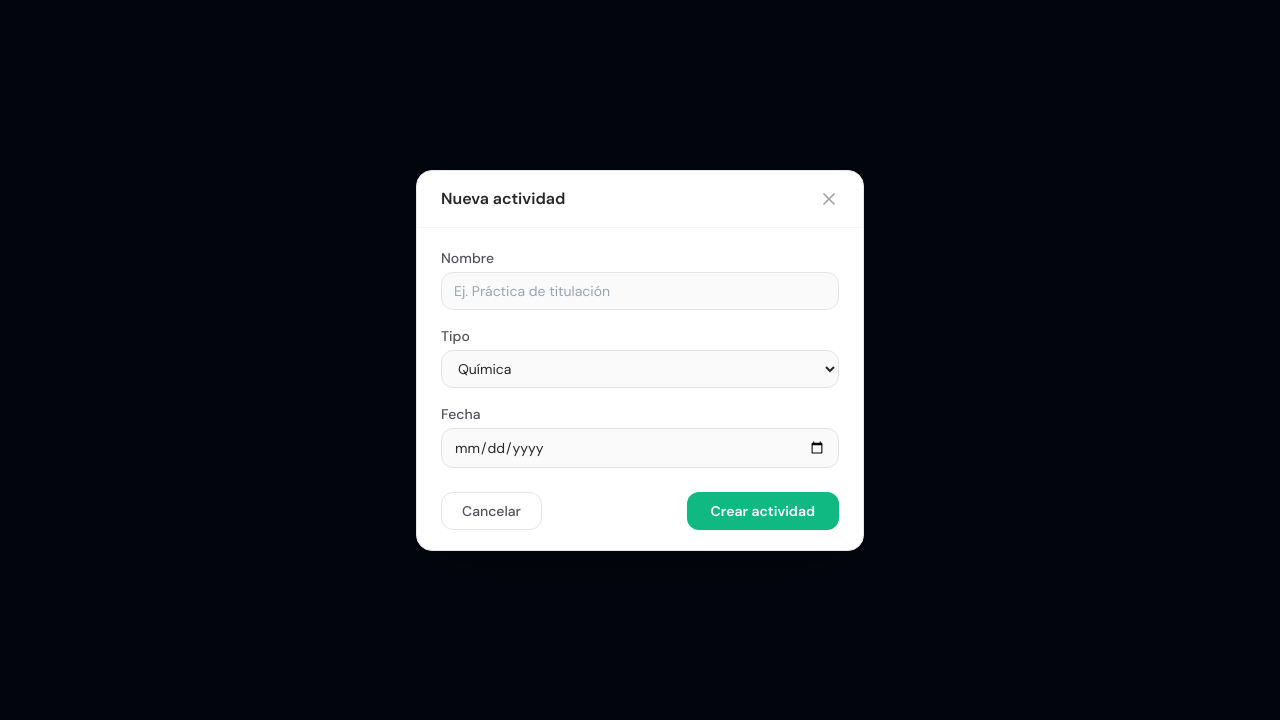
Test case: FormularioActividad Component › exige nombre y fecha
The width and height of the screenshot is (1280, 720).
Click the button "Crear actividad". click: x=763, y=510
box: [687,492,839,530]
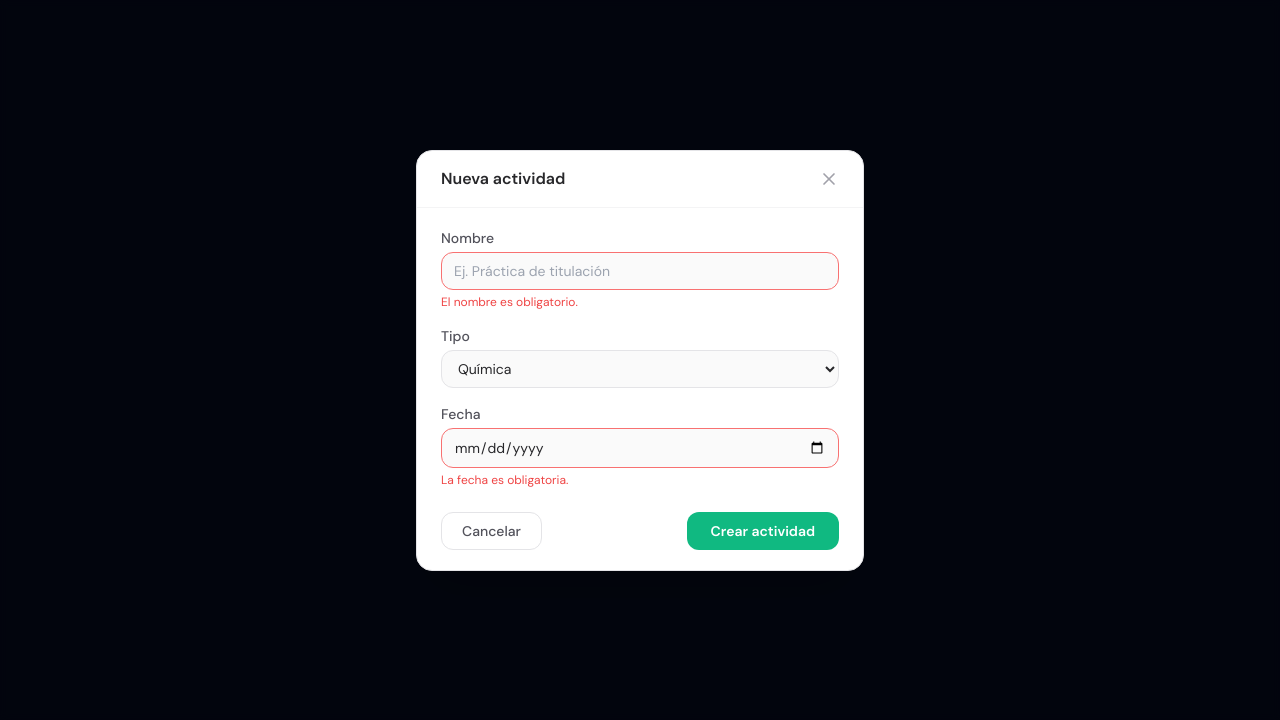
Expected: the text "El nombre es obligatorio." is shown, [441,294,578,310]
Expected: the text "La fecha es obligatoria." is shown, [441,472,568,488]
